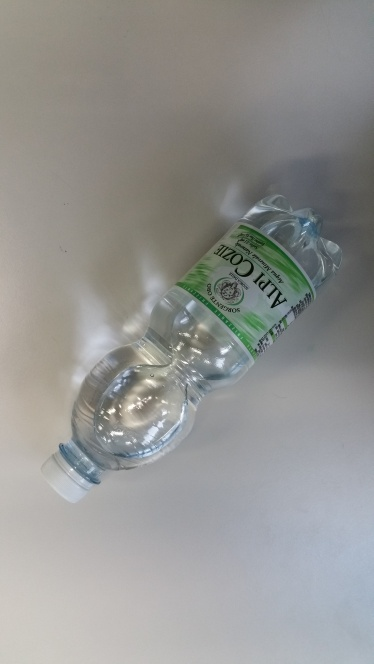bottle: (41, 192, 343, 504)
